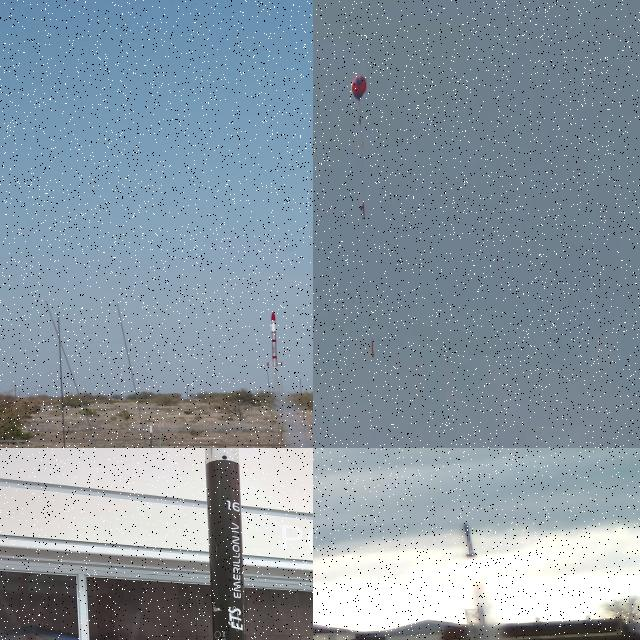Rocket: (205, 448, 247, 640), (266, 311, 282, 367), (461, 522, 480, 558), (371, 339, 374, 357)
